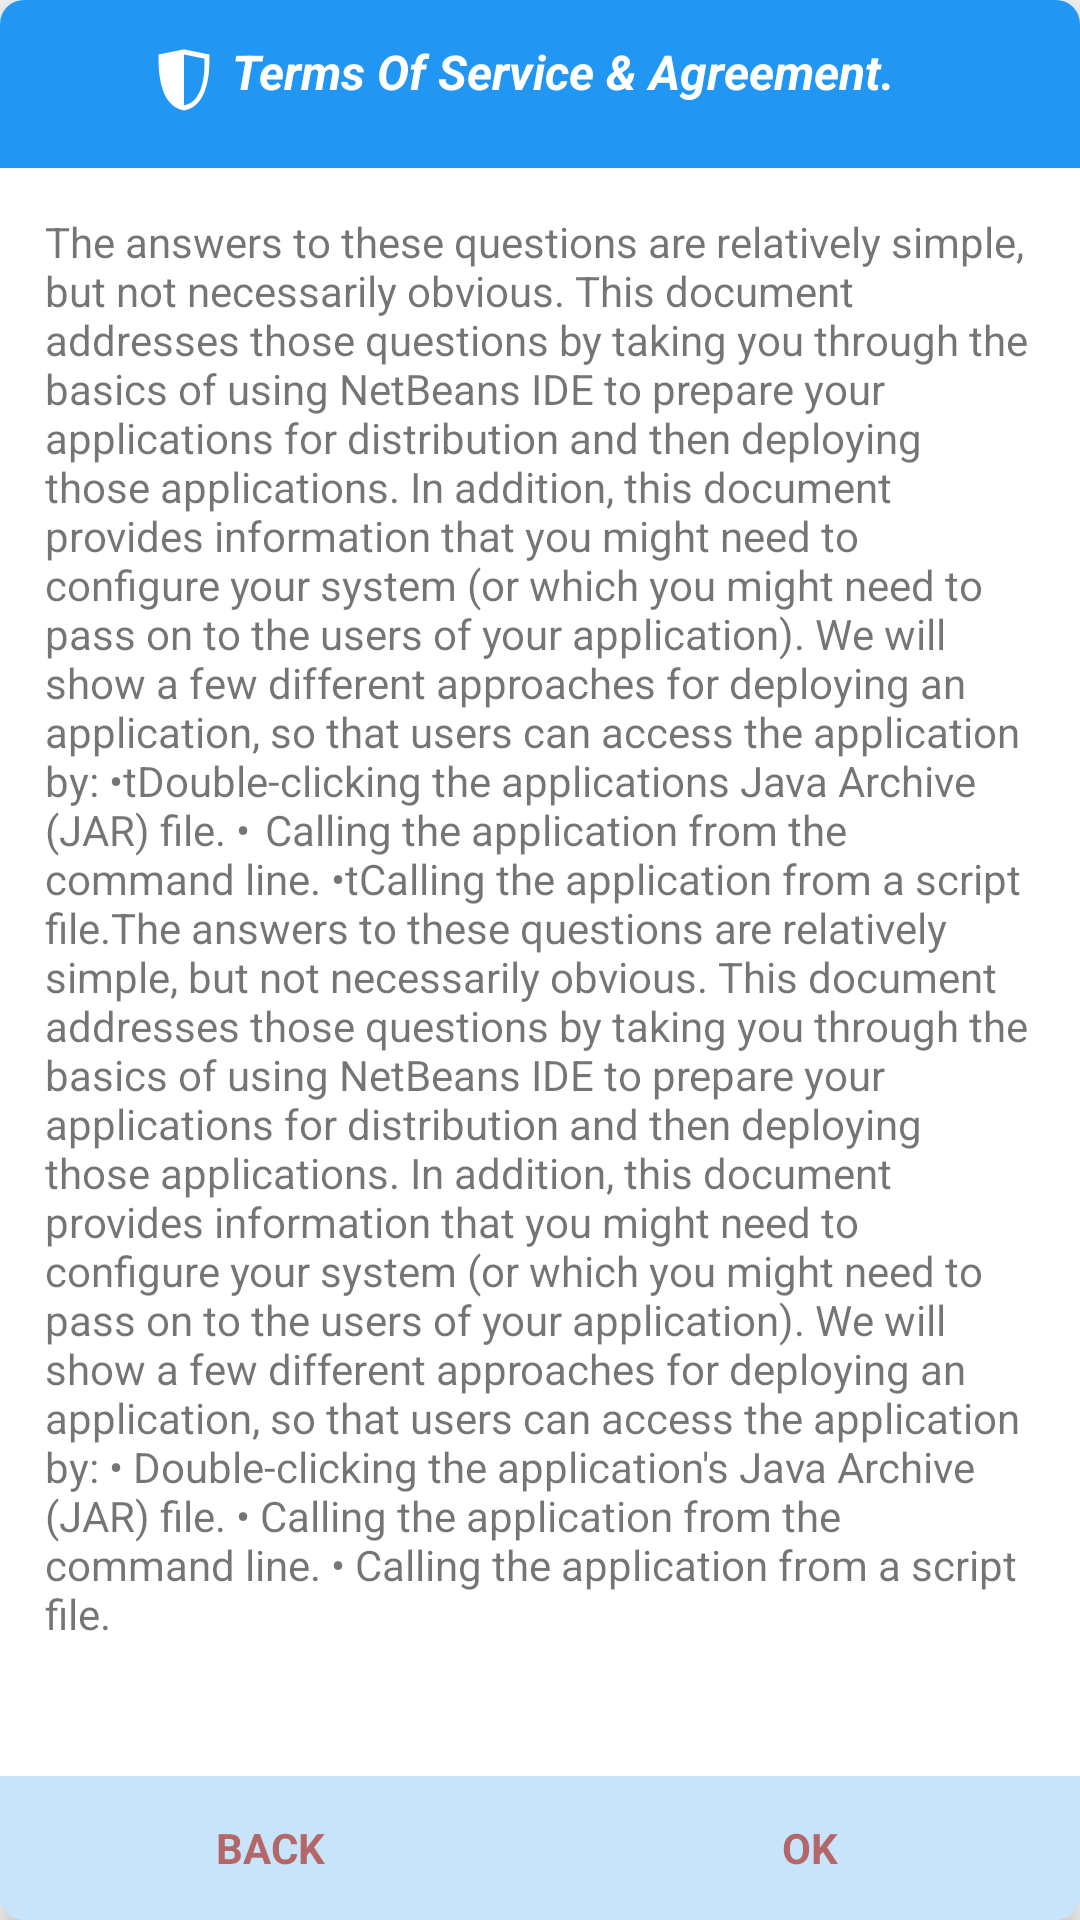

Icon bounding boxes for this 1080*1920 phone screenshot, format (x1, y1, x2, y2):
shield: (158, 49, 210, 111)
